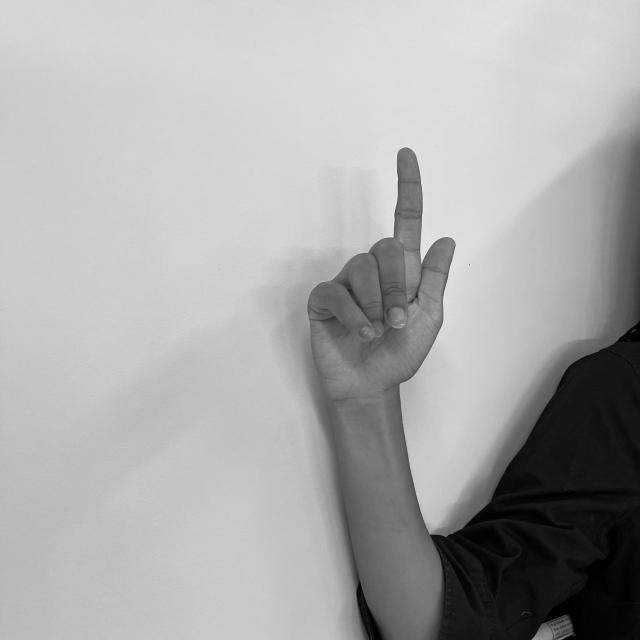Letra G: (301, 142, 459, 402)
